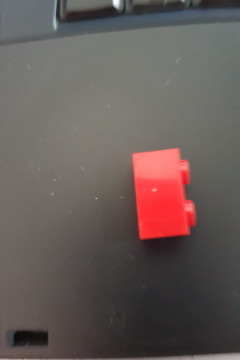1x2 red: (129, 146, 204, 242)
